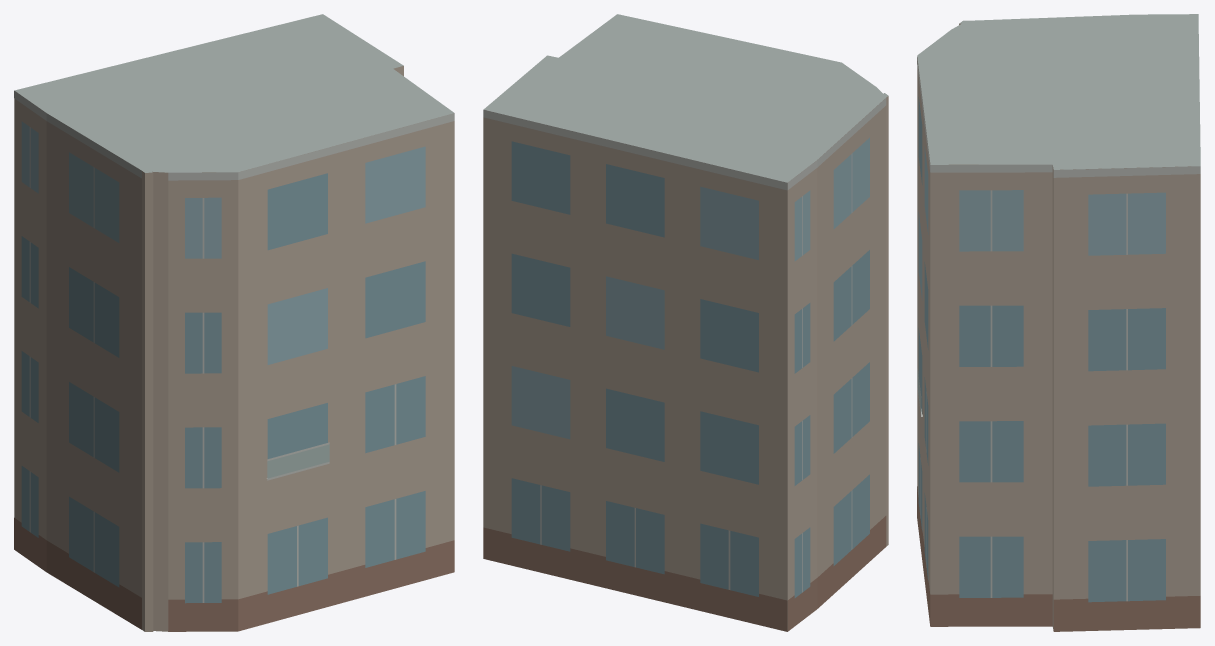
The model's file is survey-upis-32472257.glb.
3 views of the same model, side by side, from view 1: azimuth 30°, elevation 25°; view 2: azimuth 150°, elevation 25°; view 3: azimuth 270°, elevation 25° (orthographic). The views are drawn at different scales.
Parts seen in each view (by area): view 1: survey-upis-32472257.tmp; view 2: survey-upis-32472257.tmp; view 3: survey-upis-32472257.tmp.
Part boxes in pixels (<box>): survey-upis-32472257.tmp: <box>14,14,454,631</box>; survey-upis-32472257.tmp: <box>483,14,888,631</box>; survey-upis-32472257.tmp: <box>917,14,1200,631</box>.
Bounding box in the file's own units: 10.29 × 14.2 × 7.91.
